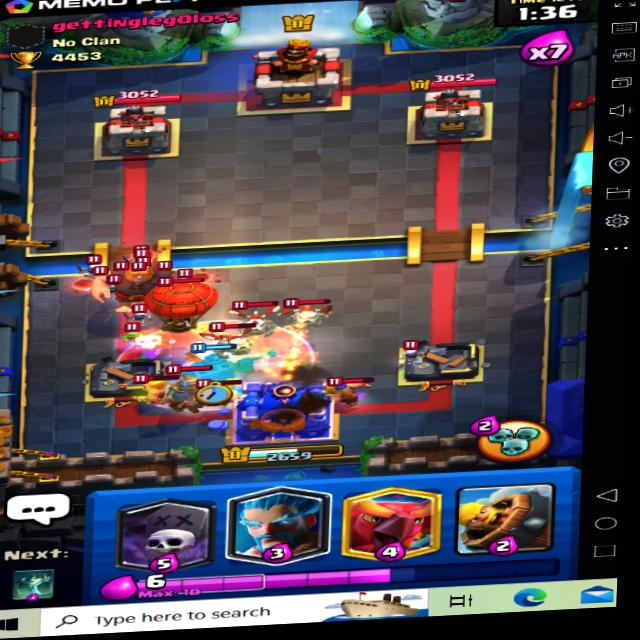balloon: (137, 270, 209, 338)
barbarian: (323, 372, 371, 405), (132, 371, 175, 400)
giant: (97, 254, 189, 311)
prince: (169, 362, 223, 417)
skeleton: (397, 339, 426, 362), (124, 322, 152, 343), (79, 256, 102, 278), (129, 303, 148, 323)
skeleton-dragon: (220, 298, 282, 337), (277, 295, 337, 335), (202, 326, 266, 361)
